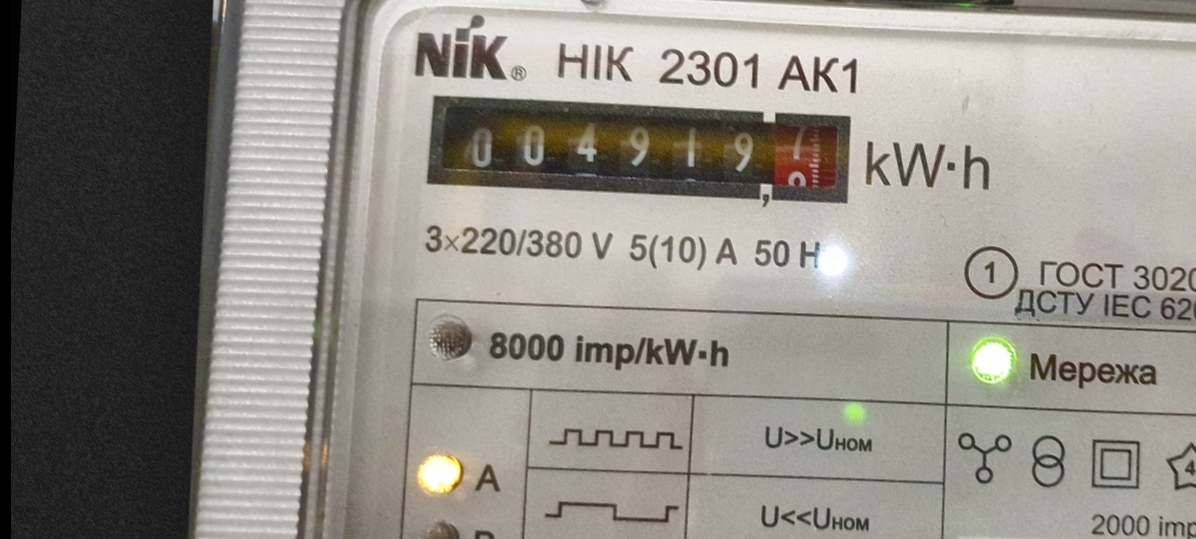0: (521, 121, 549, 167), (470, 123, 495, 168)
1: (683, 123, 700, 169)
4: (574, 118, 600, 163)
7: (785, 121, 810, 162)
9: (731, 128, 756, 175), (627, 124, 652, 169)
screen: (416, 81, 870, 222)
